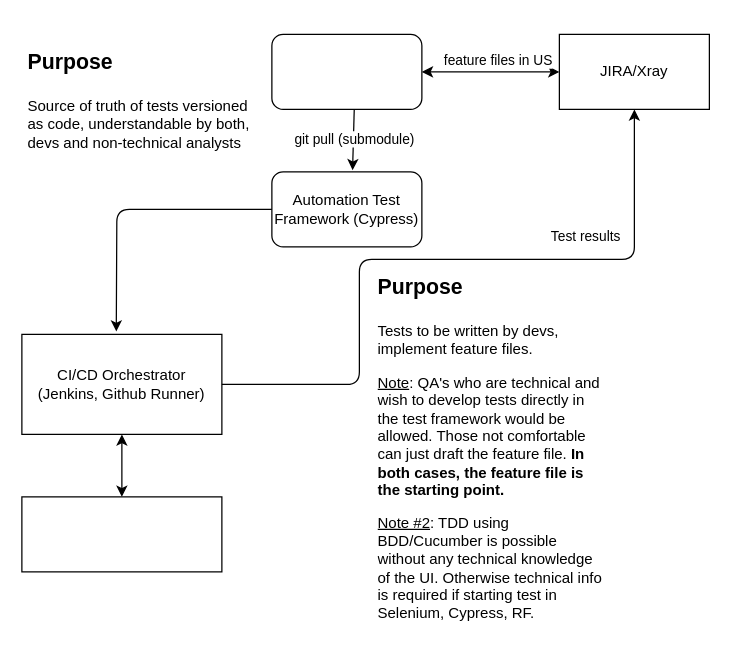
Image size: 731x655. Some labels were removed from this diagram. The box of each missing label's shape, as (x1, y1, x2, y2) in pixels:
Feature files Git Repo: (271, 33, 422, 109)
SauceLabs: (21, 496, 222, 572)
